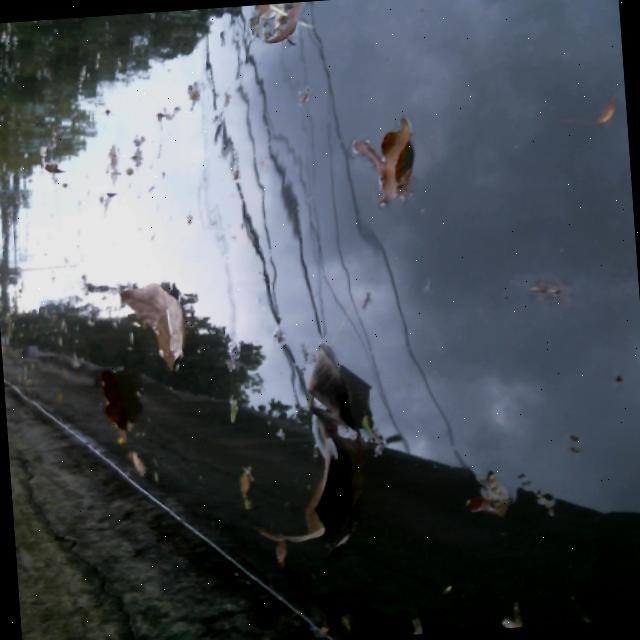Big-leaf: (268, 423, 351, 562), (118, 273, 195, 377), (295, 343, 366, 436), (83, 360, 137, 456), (376, 120, 423, 199)
Small-leaf: (243, 0, 310, 61), (456, 471, 513, 518), (221, 463, 268, 515), (515, 273, 572, 305), (586, 92, 624, 133), (124, 448, 161, 479), (39, 153, 69, 189), (221, 391, 250, 427)
